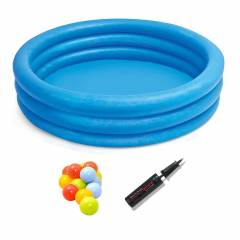havuz: (12, 19, 224, 147)
